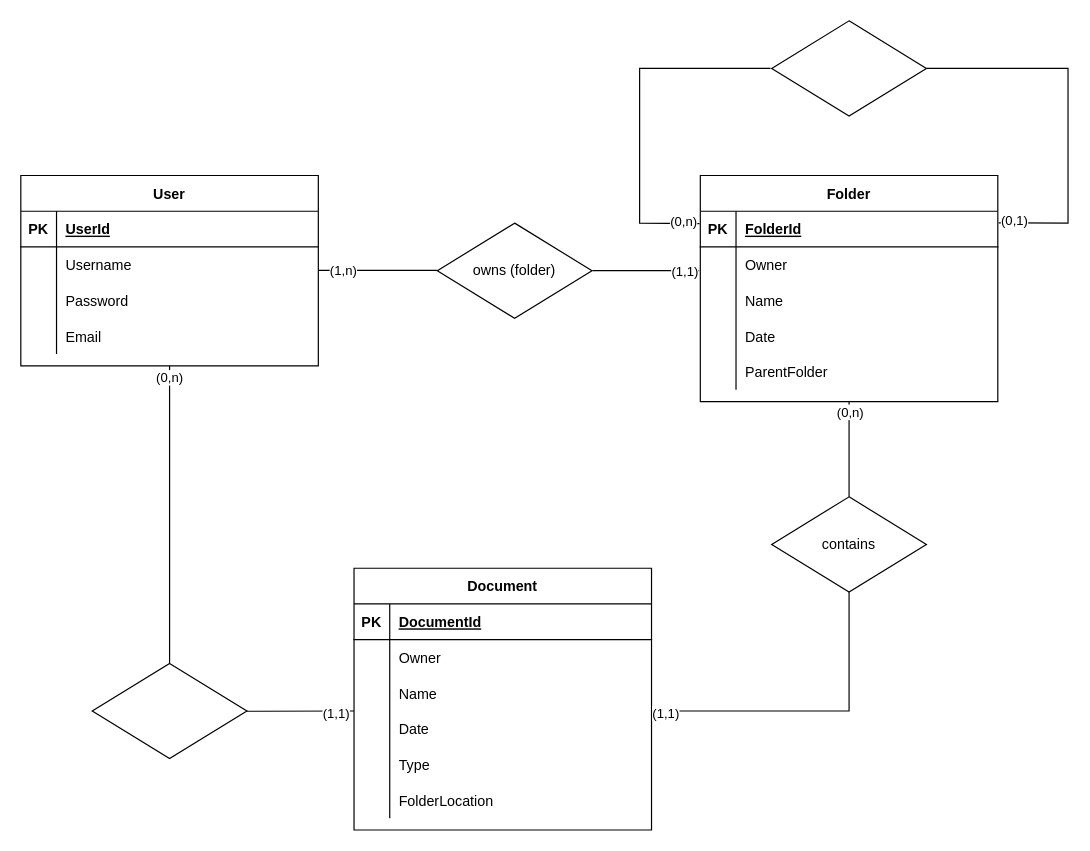
Some shapes in this 1090 by 851 pixel diagram are drawn without their labels. The shapes that lost their labels are listed below. From the top down, each one's box as (x1, y1, x2, y2) in pixels, then its label:
(771, 20, 926, 116): parent to
(91, 662, 247, 759): owns (document)
